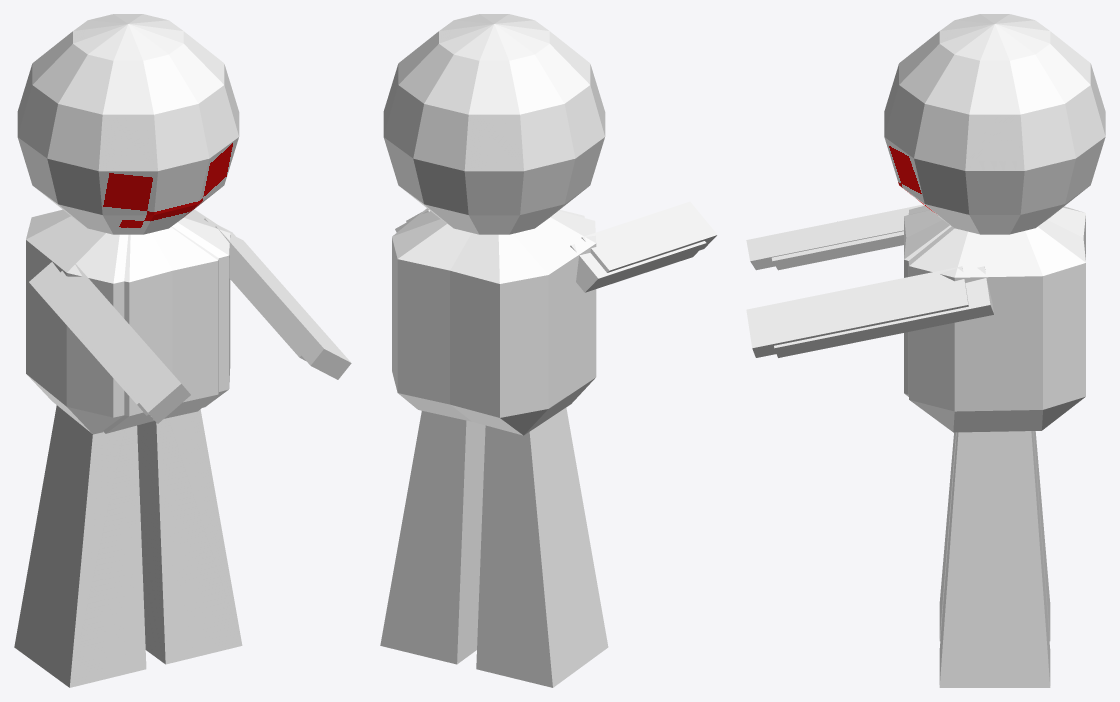
File: enemigo.gltf
3 renders of one model, left to right at view 1: azimuth 30°, elevation 25°; view 2: azimuth 150°, elevation 25°; view 3: azimuth 270°, elevation 25°, orthographic.
Visible parts, largest first — view 1: mesh (×5), sphere, beveled_cuboid (×2); view 2: mesh (×4), beveled_cuboid (×2), sphere; view 3: mesh (×6), sphere, beveled_cuboid (×2).
Boxes of the visible parts, x1,y1,x2,y2 form: mesh (×5): (14,226,351,687); sphere: (17,14,239,234); beveled_cuboid (×2): (26,209,230,434); mesh (×4): (380,201,717,687); beveled_cuboid (×2): (392,208,596,435); sphere: (383,14,605,234); mesh (×6): (746,204,1050,687); sphere: (884,14,1105,234); beveled_cuboid (×2): (904,206,1085,432).
Bounding box in the file's own units: 0.663 × 1.94 × 1.01.
Materials: 1 (1 with a texture image).
